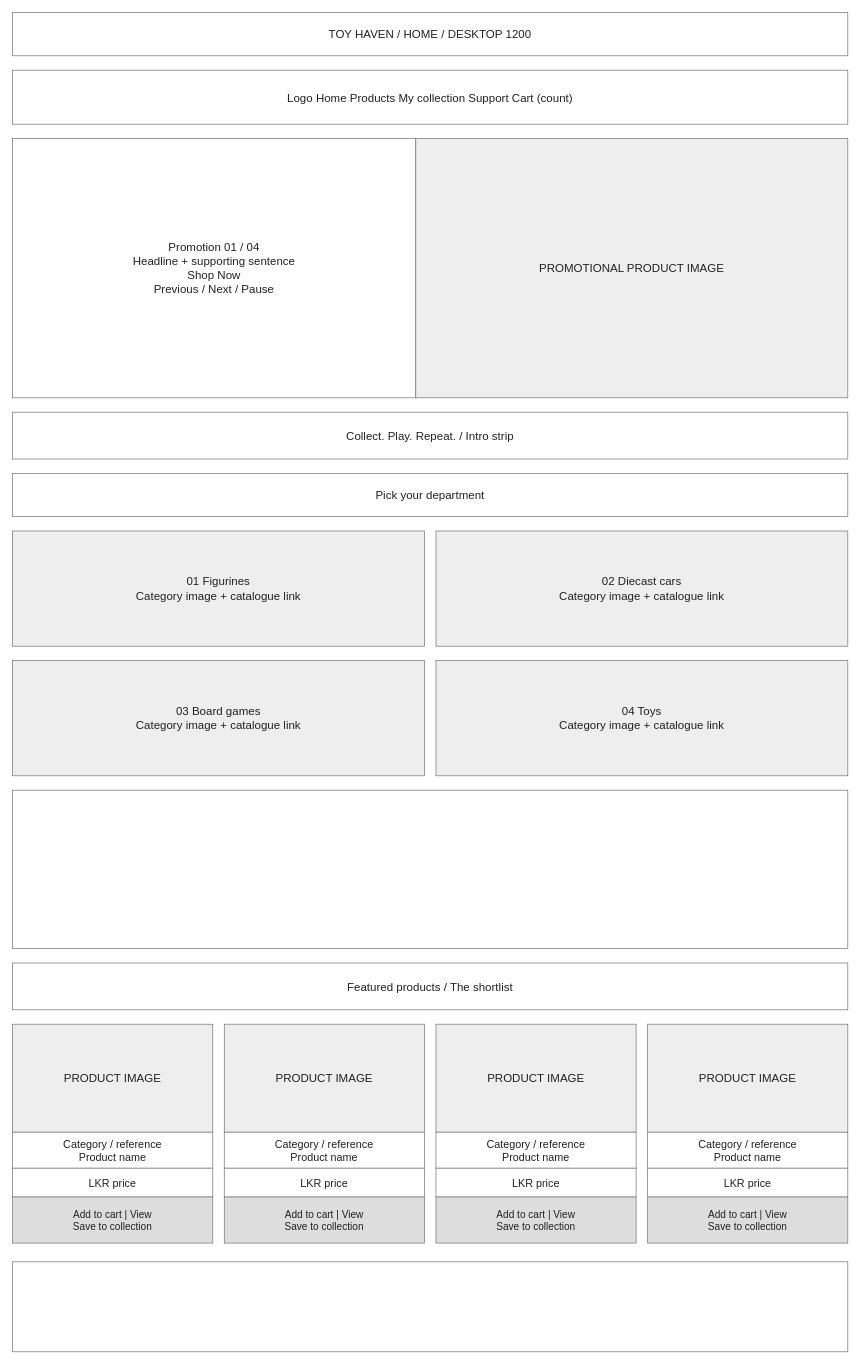
The diagram is 860 pixels wide and 1364 high, and some of its shapes have lost their labels. Here are the shapes that lost their labels. From the top down, the centre of each, then its label:
the point at 430,869: Featured Product of the Day Image / name / description / price Meet today's pick
the point at 430,1306: Footer Brand / navigation links Newsletter email + Join list Student demo notice
